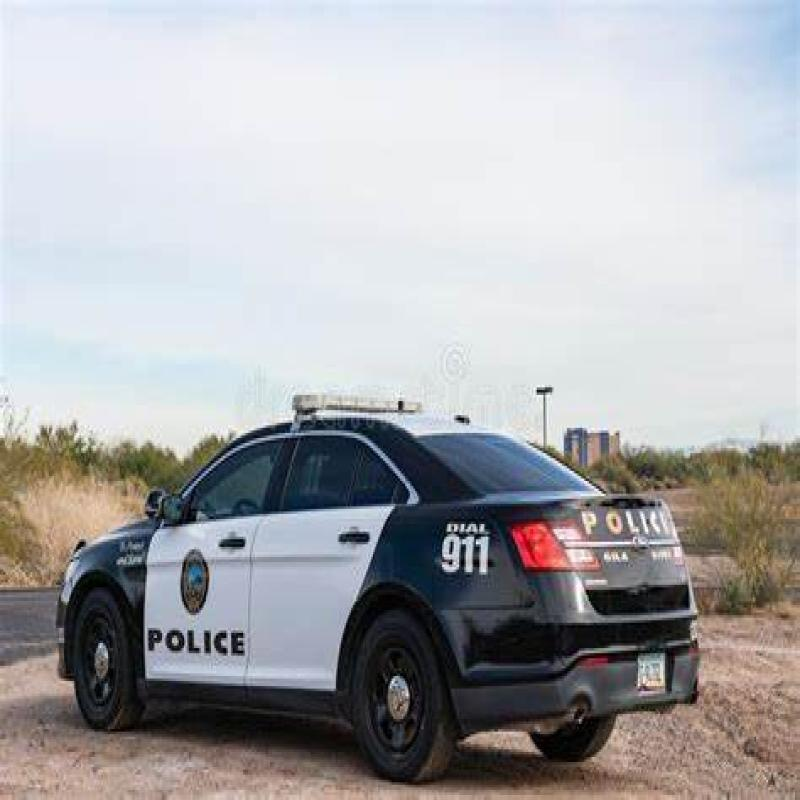AmbulanceSiren: (283, 372, 466, 443)
car: (36, 420, 732, 738)
